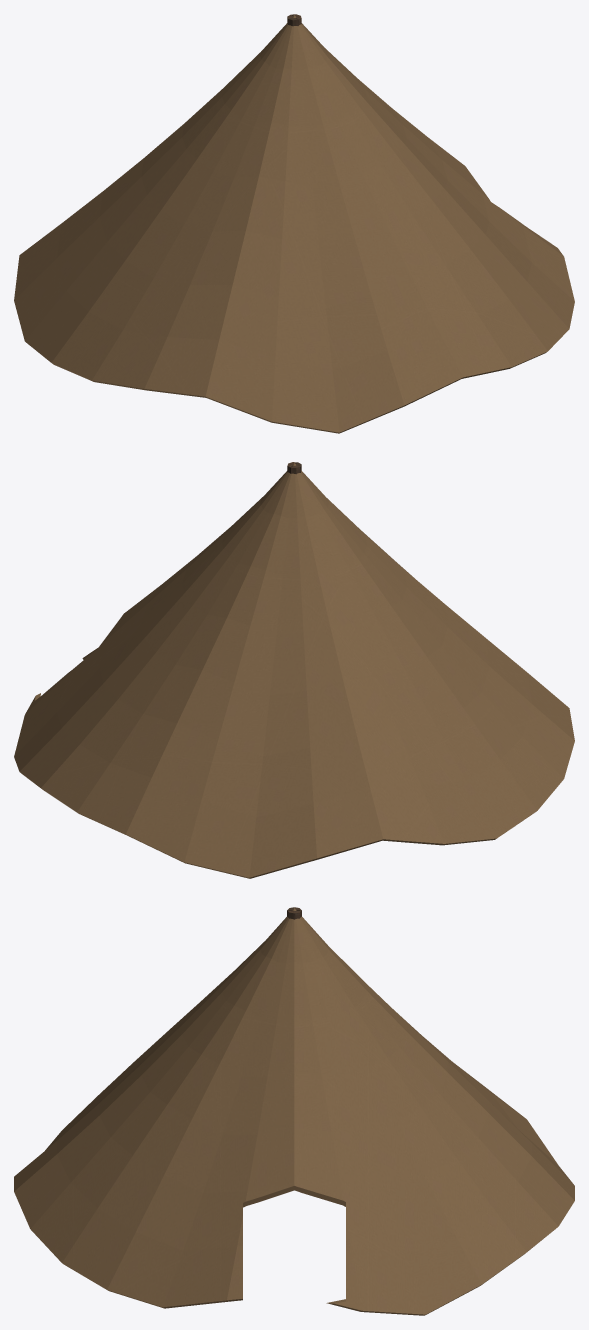
The model's file is tent_round.glb.
3 views of the same model, one above another, from view 1: azimuth 30°, elevation 25°; view 2: azimuth 150°, elevation 25°; view 3: azimuth 270°, elevation 25° (orthographic).
Visible parts, largest first — view 1: tent_round; view 2: tent_round; view 3: tent_round.
Part boxes in pixels (x1,y1,x2,y2): tent_round: [14, 14, 574, 433]; tent_round: [14, 462, 574, 878]; tent_round: [14, 907, 574, 1315].
Size of the model in its own units: 4.56 by 2.74 by 4.57.
2 materials, 2 textured.
